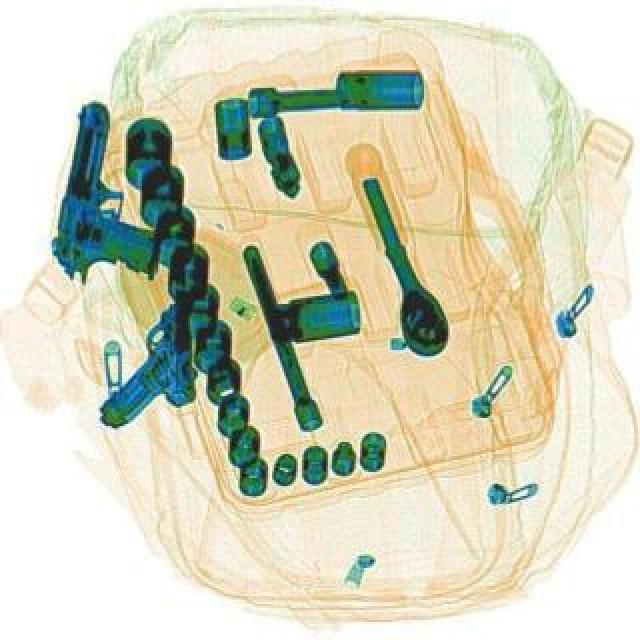gun: (44, 96, 180, 296), (90, 250, 200, 426)
